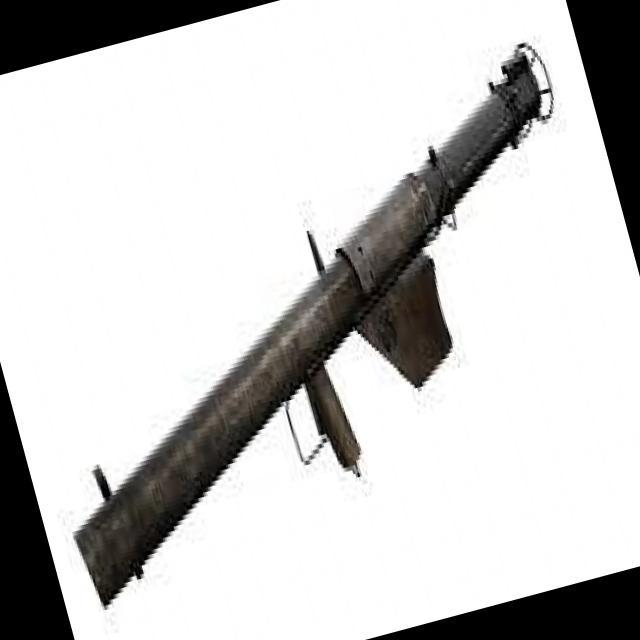rocket: (0, 37, 640, 609)
